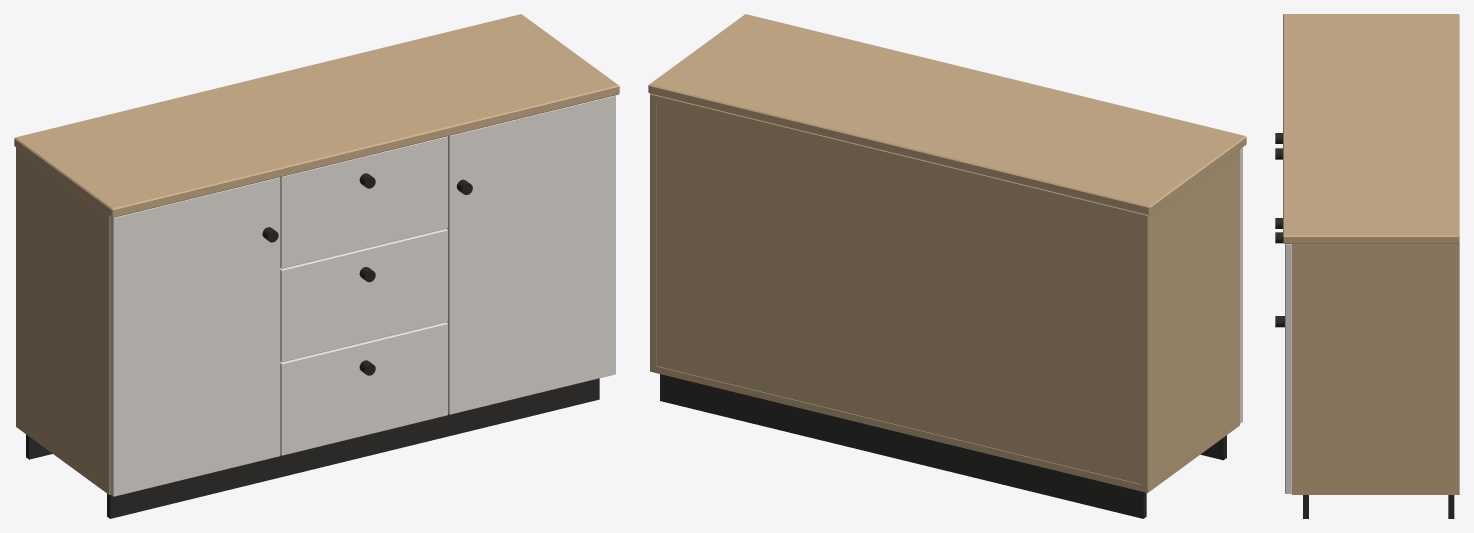
File: 21_komoda_140_d_sz_d.glb
The picture shows the model from 3 angles, left to right: view 1: azimuth 30°, elevation 25°; view 2: azimuth 150°, elevation 25°; view 3: azimuth 270°, elevation 25°; orthographic projection. The views are drawn at different scales.
Parts seen in each view (by area): view 1: Wierzch, Front_drzwi_1, Front_drzwi_5, Korpus, Front_szuflada_3, Front_szuflada_4, Front_szuflada_2, Cokol, Uchwyty; view 2: Korpus, Wierzch, Cokol, Front_drzwi_1; view 3: Korpus, Wierzch, Front_drzwi_5, Uchwyty, Cokol.
Boxes of the visible parts, <box> form: Wierzch: <box>14,14,619,217</box>; Front_drzwi_1: <box>110,177,280,496</box>; Front_drzwi_5: <box>447,95,615,414</box>; Korpus: <box>16,147,110,494</box>; Front_szuflada_3: <box>280,228,447,362</box>; Front_szuflada_4: <box>280,322,447,455</box>; Front_szuflada_2: <box>280,136,447,268</box>; Cokol: <box>26,378,599,518</box>; Uchwyty: <box>262,173,472,375</box>; Korpus: <box>650,94,1239,492</box>; Wierzch: <box>648,14,1246,215</box>; Cokol: <box>660,374,1226,518</box>; Front_drzwi_1: <box>1240,147,1242,423</box>; Korpus: <box>1292,243,1459,494</box>; Wierzch: <box>1283,14,1459,243</box>; Front_drzwi_5: <box>1285,244,1291,493</box>; Uchwyty: <box>1275,133,1284,327</box>; Cokol: <box>1303,495,1454,518</box>.
Bounding box in the file's own units: 1.41 × 0.85 × 0.494.
